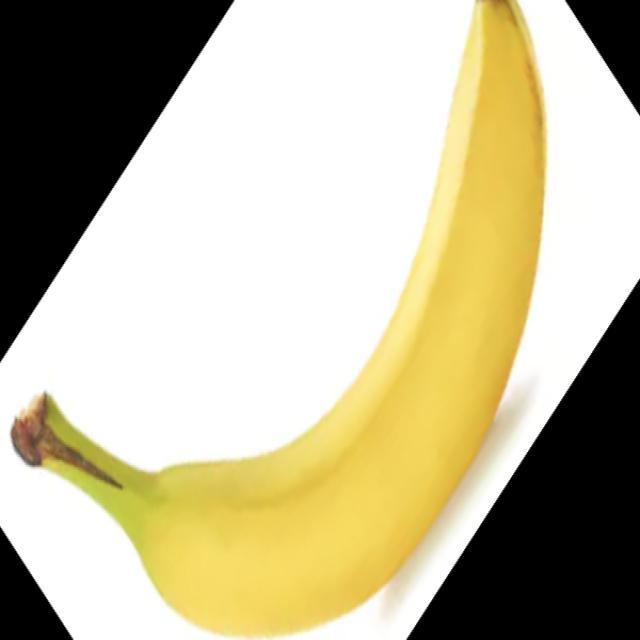Banana: (9, 0, 548, 639)
